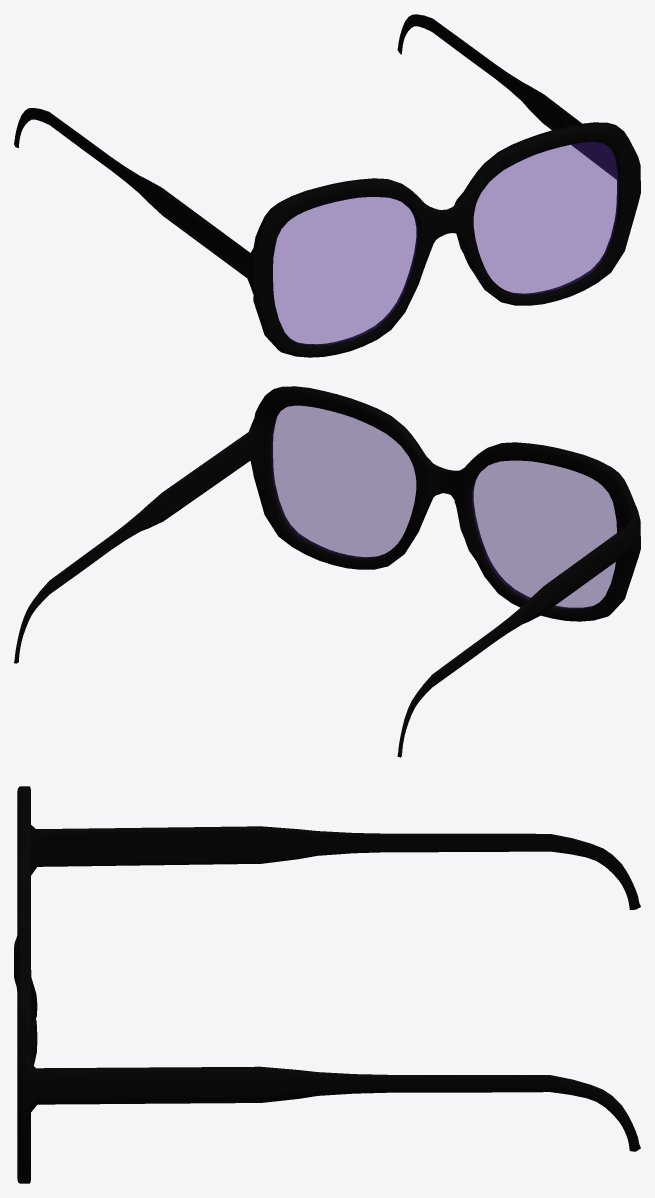
3 renders of one model, top to bottom at view 1: azimuth 30°, elevation 25°; view 2: azimuth 150°, elevation 25°; view 3: azimuth 270°, elevation 25°, orthographic. The views are drawn at different scales.
Parts seen in each view (by area): view 1: f0; view 2: f0; view 3: f0.
Boxes of the visible parts, bbox=[...] form: f0: bbox=[14, 14, 640, 357]; f0: bbox=[14, 386, 640, 757]; f0: bbox=[14, 786, 640, 1183].
Size of the model in its own units: 14.12 by 5.83 by 15.28.
